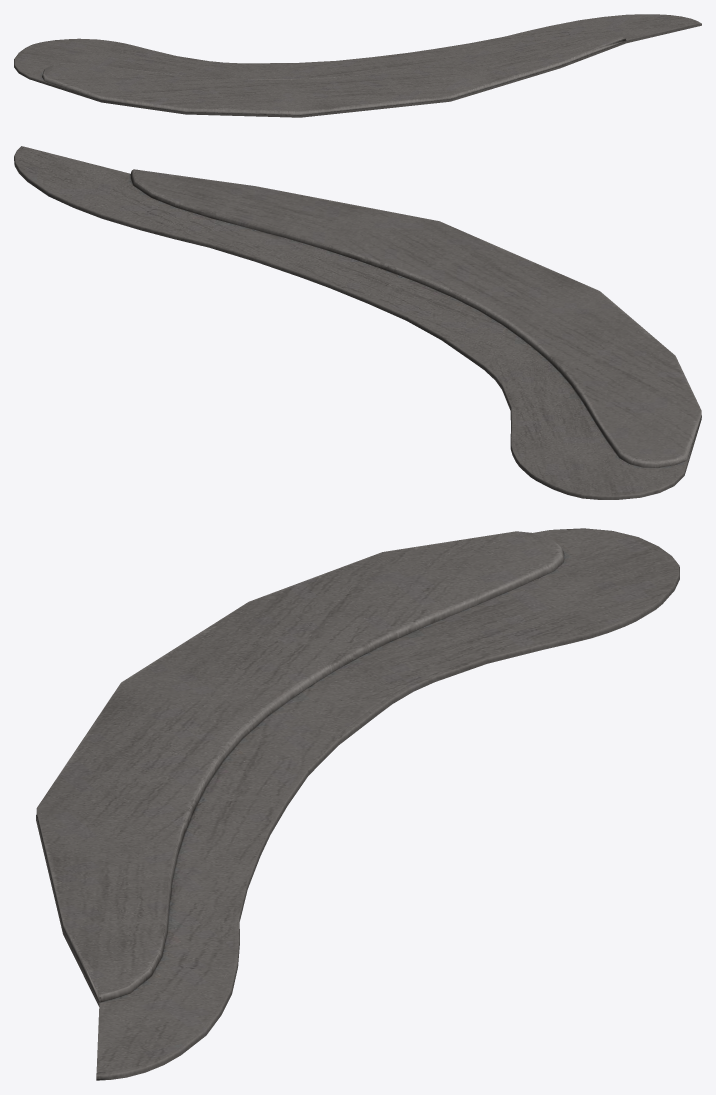
The model's file is Centerpiece.obj.
The picture shows the model from 3 angles, top to bottom: view 1: azimuth 30°, elevation 25°; view 2: azimuth 150°, elevation 25°; view 3: azimuth 270°, elevation 25°; orthographic projection. The views are drawn at different scales.
Visible parts, largest first — view 1: Centerpiece1, Centerpiece; view 2: Centerpiece1, Centerpiece; view 3: Centerpiece1, Centerpiece.
Boxes of the visible parts, x1,y1,x2,y2 form: Centerpiece1: (42,35,626,114); Centerpiece: (14,14,701,117); Centerpiece1: (131,169,701,467); Centerpiece: (14,146,701,499); Centerpiece1: (36,531,563,1001); Centerpiece: (36,528,679,1080).
Bounding box in the file's own units: 91.84 × 0.9368 × 45.6.
